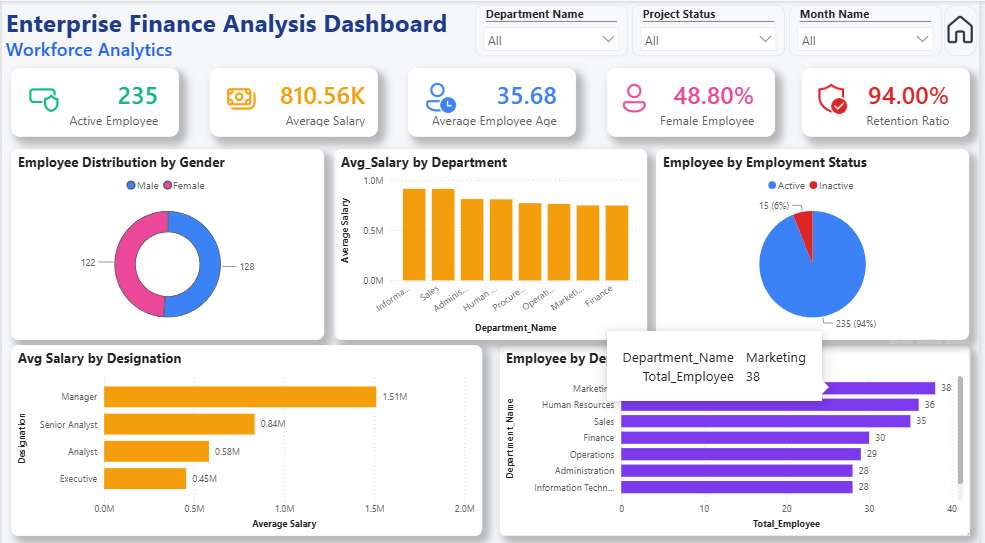

The dashboard page shown, as its layout file describes it:
{"tool":"powerbi","page":{"name":"Workforce Analytics","canvas":[1280,720],"ordinal":5},"visuals":[{"type":"textbox","box":[0,0,758.3,56.7],"z":0},{"type":"shape","box":[1232.3,5.3,43.3,66.7],"z":0,"group":"g1"},{"type":"image","box":[1229,16.4,50,44.4],"z":1000,"group":"g1"},{"type":"cardVisual","fields":{"Data":["employee.Active Employee"]},"box":[12.4,88.3,220,90],"z":1000},{"type":"cardVisual","fields":{"Data":["employee.Female_Employee"]},"box":[791.9,88.3,220,90],"z":2000},{"type":"cardVisual","fields":{"Data":["employee.Retention Ratio"]},"box":[1046.7,88.3,220,90],"z":3000},{"type":"cardVisual","fields":{"Data":["employee.Average Salary"]},"box":[272.2,88.3,220,90],"z":4000},{"type":"textbox","box":[0,40,491.7,41.7],"z":5000},{"type":"cardVisual","fields":{"Data":["employee.Average_Emp_Age"]},"box":[532,88.3,220,90],"z":6000},{"type":"clusteredBarChart","title":"Employee by Department","fields":{"Category":["department.Department_Name"],"Y":["employee.Total_Employee"]},"box":[650,450,616.7,250],"z":7000},{"type":"clusteredColumnChart","title":"Avg_Salary by Department","fields":{"Category":["department.Department_Name"],"Y":["employee.Average Salary"]},"box":[434.2,193.3,410,250],"z":8000},{"type":"donutChart","title":"Employee Distribution by Gender","fields":{"Category":["employee.Gender"],"Y":["employee.Total_Employee"]},"box":[11.7,193.3,410,250],"z":9000},{"type":"pieChart","title":"Employee by Employment Status","fields":{"Category":["employee.Employment_Status"],"Y":["employee.Total_Employee"]},"box":[856.7,193.3,410,250],"z":10000},{"type":"clusteredBarChart","title":"Avg Salary by Designation","fields":{"Category":["employee.Designation"],"Y":["employee.Average Salary"]},"box":[11.7,450,616.7,250],"z":11000},{"type":"textbox","box":[0,0,693.3,70],"z":12000},{"type":"slicer","fields":{"Values":["calendar.Month_Name"]},"box":[1030.7,5.3,200,66.7],"z":14000},{"type":"image","box":[24.5,105.1,60.5,46.1],"z":16000},{"type":"image","box":[282.5,105.1,60,45],"z":17000},{"type":"image","box":[543.3,103.3,60,45],"z":18000},{"type":"image","box":[797.5,105.1,60,45],"z":19000},{"type":"image","box":[1055,105.1,60,45],"z":20000},{"type":"slicer","fields":{"Values":["region.Region_Name"]},"box":[618.9,5.3,200,66.7],"z":20001},{"type":"slicer","fields":{"Values":["projects.Status"]},"box":[824.8,5.3,200,66.7],"z":20002},{"type":"group","id":"g1","title":"Group 1","box":[1229,5.3,50,66.7],"z":21000}]}

Visuals, with their boxes in screenshot pixels (x1, y1, x2, y2), scaled from the page's 1280x720 canvas onto the 985x543 screenshot:
textbox: [0, 0, 584, 43]
shape: [948, 4, 982, 54]
image: [946, 12, 984, 46]
cardVisual - employee.Active Employee: [10, 67, 179, 134]
cardVisual - employee.Female_Employee: [609, 67, 779, 134]
cardVisual - employee.Retention Ratio: [805, 67, 975, 134]
cardVisual - employee.Average Salary: [209, 67, 379, 134]
textbox: [0, 30, 378, 62]
cardVisual - employee.Average_Emp_Age: [409, 67, 579, 134]
"Employee by Department" clusteredBarChart: [500, 339, 975, 528]
"Avg_Salary by Department" clusteredColumnChart: [334, 146, 650, 334]
"Employee Distribution by Gender" donutChart: [9, 146, 325, 334]
"Employee by Employment Status" pieChart: [659, 146, 975, 334]
"Avg Salary by Designation" clusteredBarChart: [9, 339, 484, 528]
textbox: [0, 0, 534, 53]
slicer - calendar.Month_Name: [793, 4, 947, 54]
image: [19, 79, 65, 114]
image: [217, 79, 264, 113]
image: [418, 78, 464, 112]
image: [614, 79, 660, 113]
image: [812, 79, 858, 113]
slicer - region.Region_Name: [476, 4, 630, 54]
slicer - projects.Status: [635, 4, 789, 54]
"Group 1" group: [946, 4, 984, 54]
